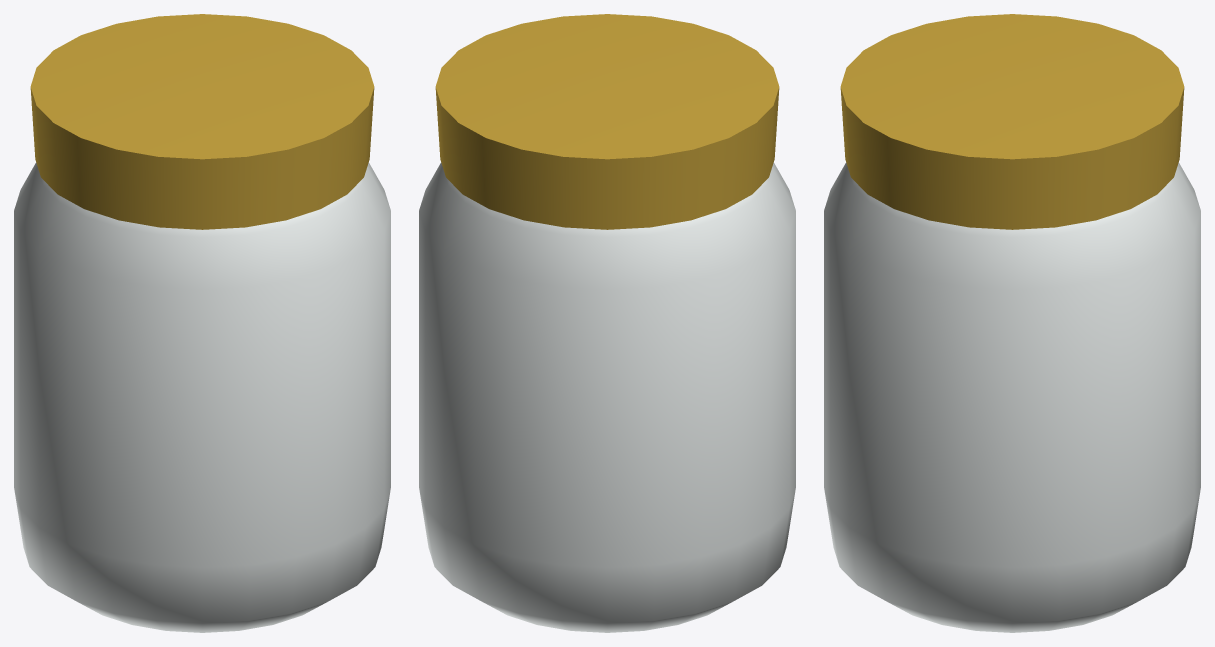
Rendered from item_jar.fbx.
3 views of the same model, side by side, from view 1: azimuth 30°, elevation 25°; view 2: azimuth 150°, elevation 25°; view 3: azimuth 270°, elevation 25° (orthographic).
Parts seen in each view (by area): view 1: item_jar; view 2: item_jar; view 3: item_jar.
Boxes of the visible parts, box(x1,y1,x2,y2) form: item_jar: box(14, 14, 390, 632); item_jar: box(419, 14, 795, 632); item_jar: box(824, 14, 1200, 632).
Size of the model in its own units: 0.08 by 0.115 by 0.08.
